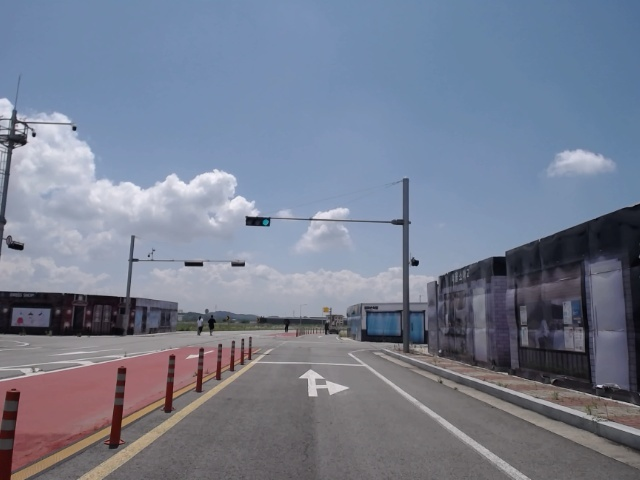green_3: (246, 217, 270, 225)
